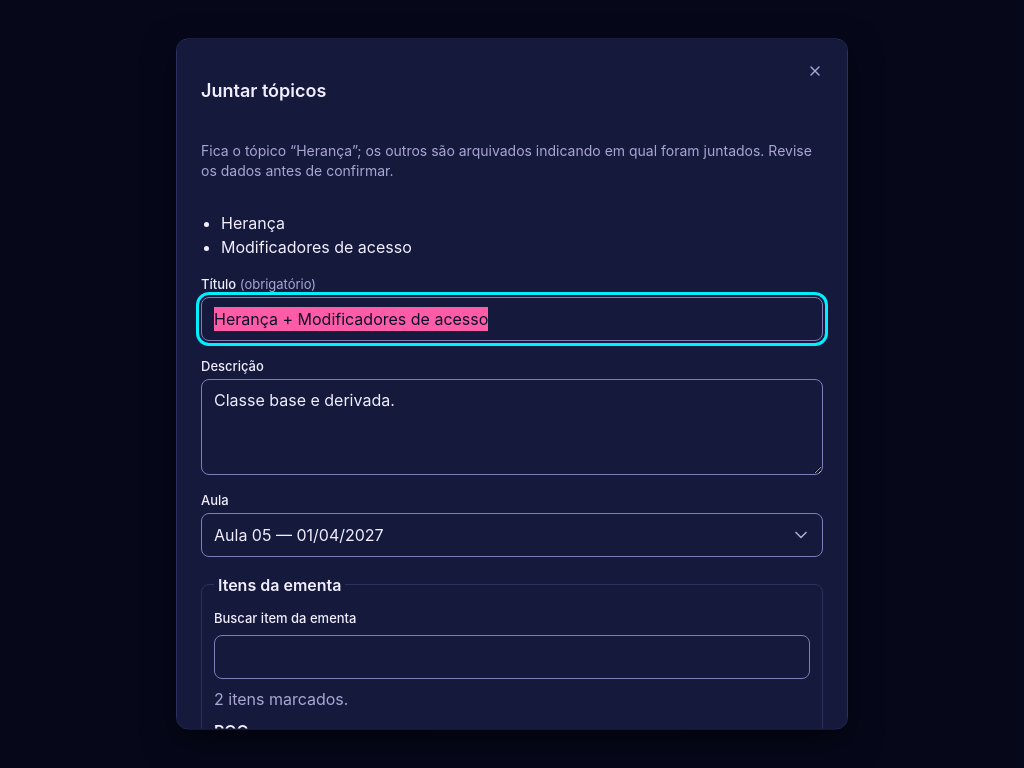
it: 004/US6-2 MergeTopicsDialog — juntar tópicos (FR-036) › 004/US6-7 conflito: mensagem, "Atualizar" e o formulário continua aberto com o que foi digitado
Replace the text in the field labelled "Título (obrigatório)" with "Meu título" at coordinates (512, 319), box [201,297,823,341]
(page scrolled)
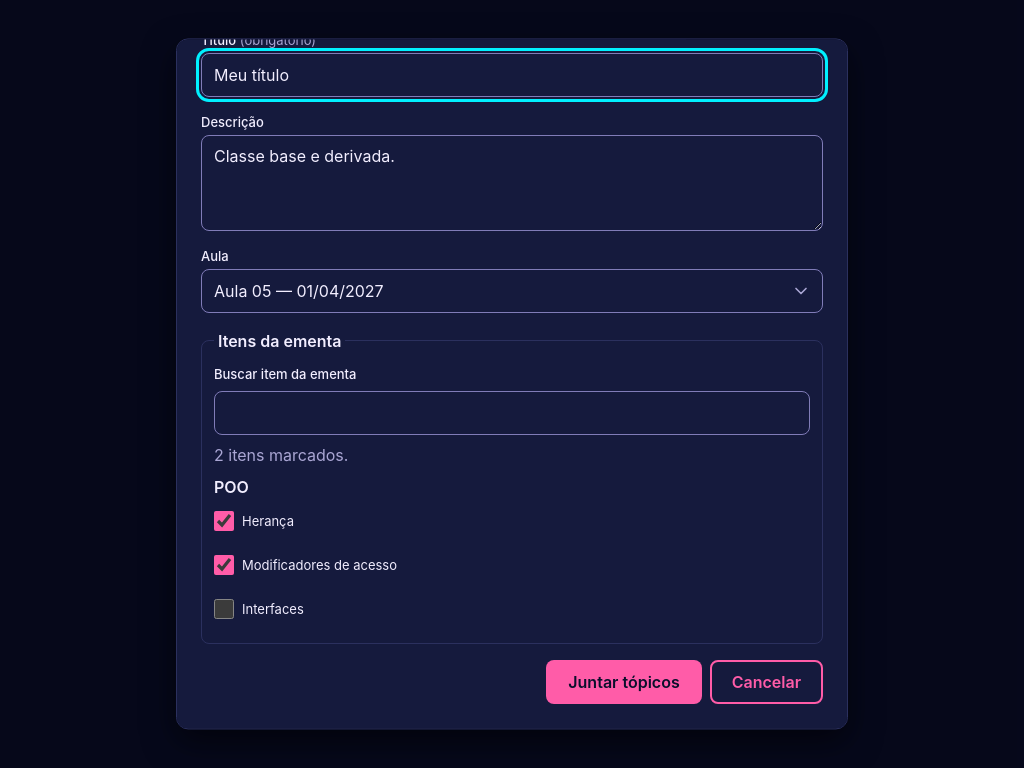
Click the button "Juntar tópicos" at coordinates (624, 682), box [546,660,702,704]
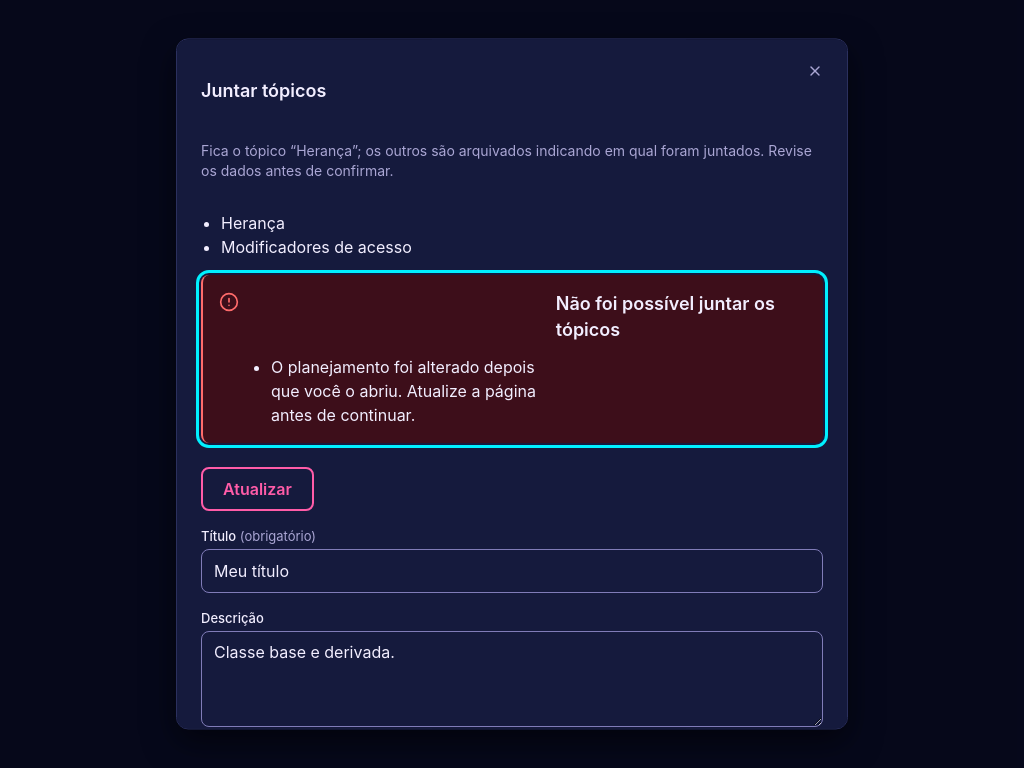
Click the button "Atualizar" at coordinates (257, 489), box [201,467,314,511]
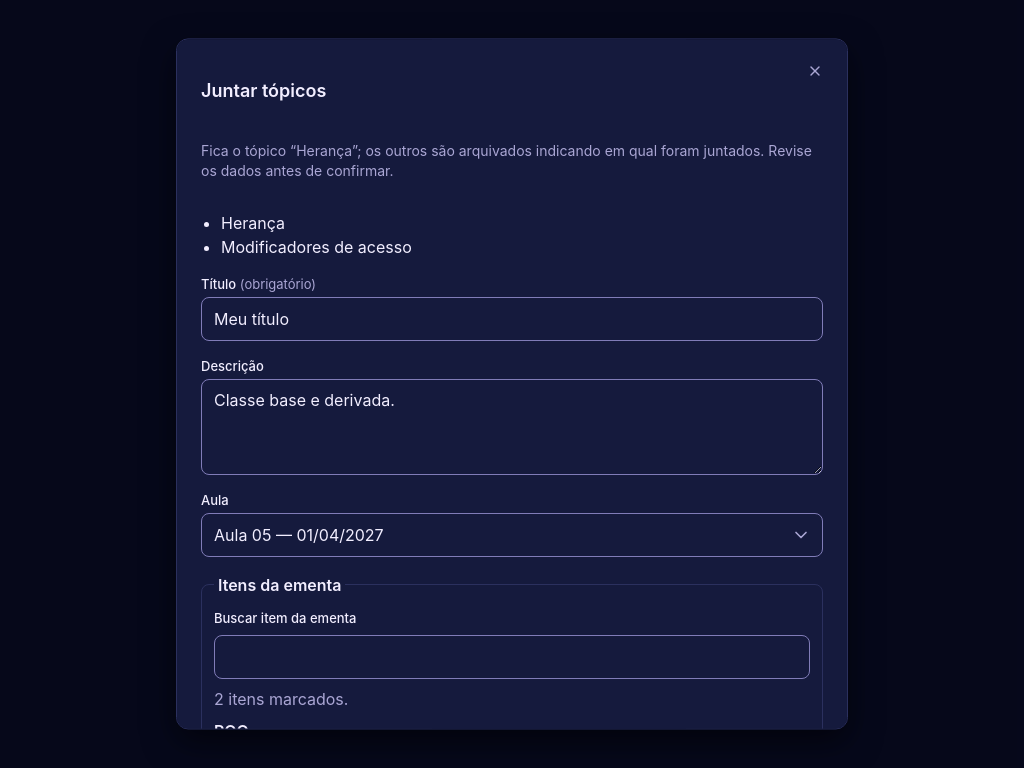
Result: the button "Atualizar" is gone
